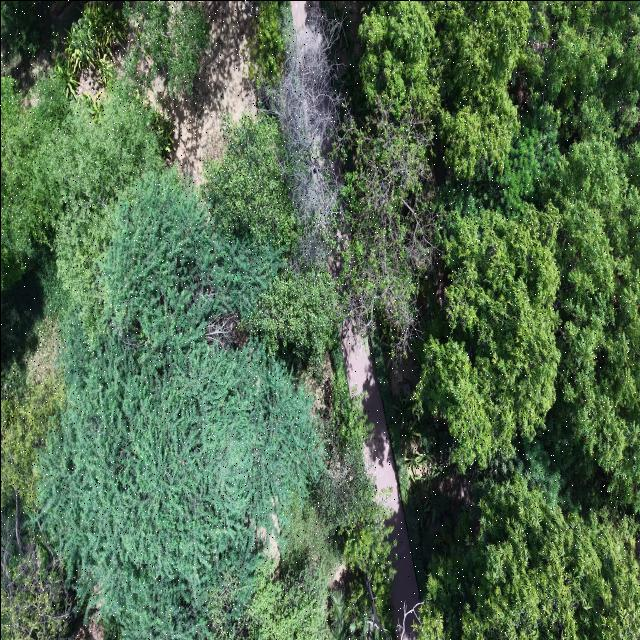DRY_AREA: (341, 321, 419, 639), (342, 323, 419, 625), (342, 324, 419, 623), (155, 1, 255, 184)
VEGETATION_TREE: (1, 1, 639, 639), (1, 4, 390, 639), (344, 3, 639, 638), (360, 4, 638, 505), (40, 172, 320, 639), (348, 1, 528, 353), (1, 75, 162, 323), (414, 199, 559, 470), (419, 476, 639, 639), (544, 137, 639, 514), (202, 116, 340, 370), (203, 116, 338, 365), (99, 172, 279, 352), (360, 1, 529, 178), (1, 254, 73, 639), (53, 81, 163, 326), (341, 99, 433, 355), (315, 348, 395, 620), (260, 9, 341, 265), (1, 370, 72, 638), (514, 1, 639, 142), (1, 77, 68, 289), (203, 115, 298, 251), (239, 510, 336, 639), (1, 1, 128, 91), (1, 251, 68, 390), (1, 514, 73, 639), (360, 1, 437, 116), (1, 372, 65, 510), (251, 267, 339, 364), (124, 1, 209, 95), (65, 1, 126, 82), (249, 1, 289, 88), (330, 590, 385, 639), (1, 1, 46, 55)
